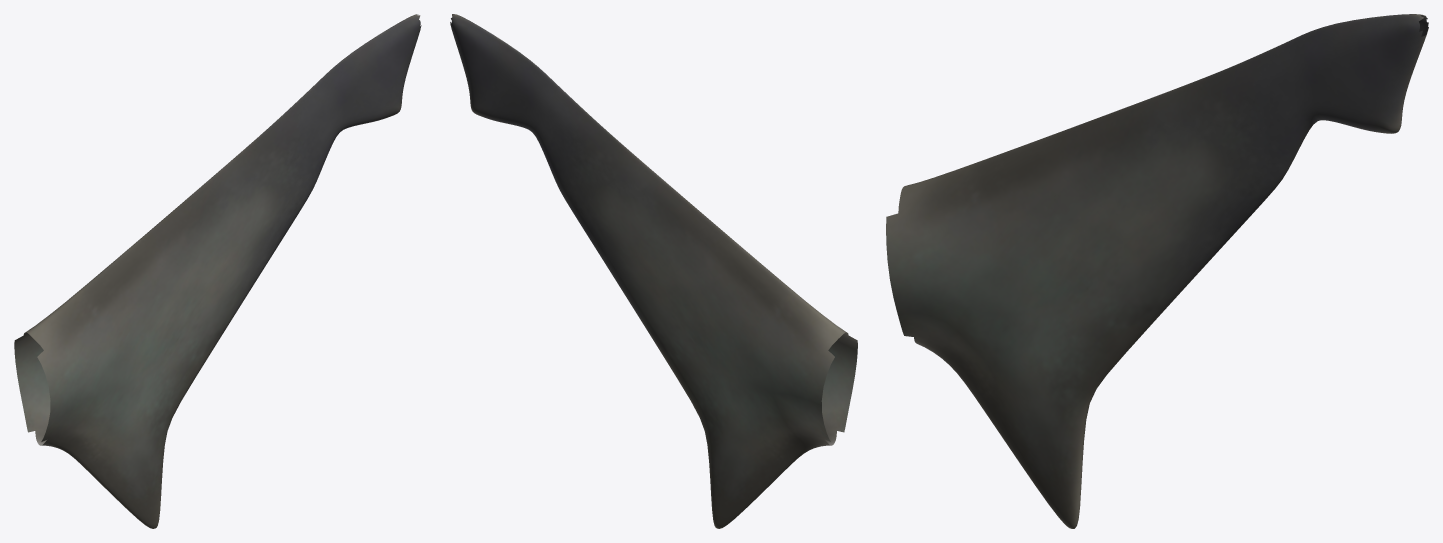
The model's file is colatib.obj.
The picture shows the model from 3 angles, left to right: view 1: azimuth 30°, elevation 25°; view 2: azimuth 150°, elevation 25°; view 3: azimuth 330°, elevation 25°; orthographic projection. The views are drawn at different scales.
Parts seen in each view (by area): view 1: polySurface1 _Shark_v2_L1:_Shark_v2; view 2: polySurface1 _Shark_v2_L1:_Shark_v2; view 3: polySurface1 _Shark_v2_L1:_Shark_v2.
Boxes of the visible parts, x1,y1,x2,y2 form: polySurface1 _Shark_v2_L1:_Shark_v2: (14, 14, 421, 528); polySurface1 _Shark_v2_L1:_Shark_v2: (450, 14, 857, 528); polySurface1 _Shark_v2_L1:_Shark_v2: (886, 14, 1428, 528).
Bounding box in the file's own units: 1.53 × 1.66 × 0.2221.
1 material, 1 textured.
